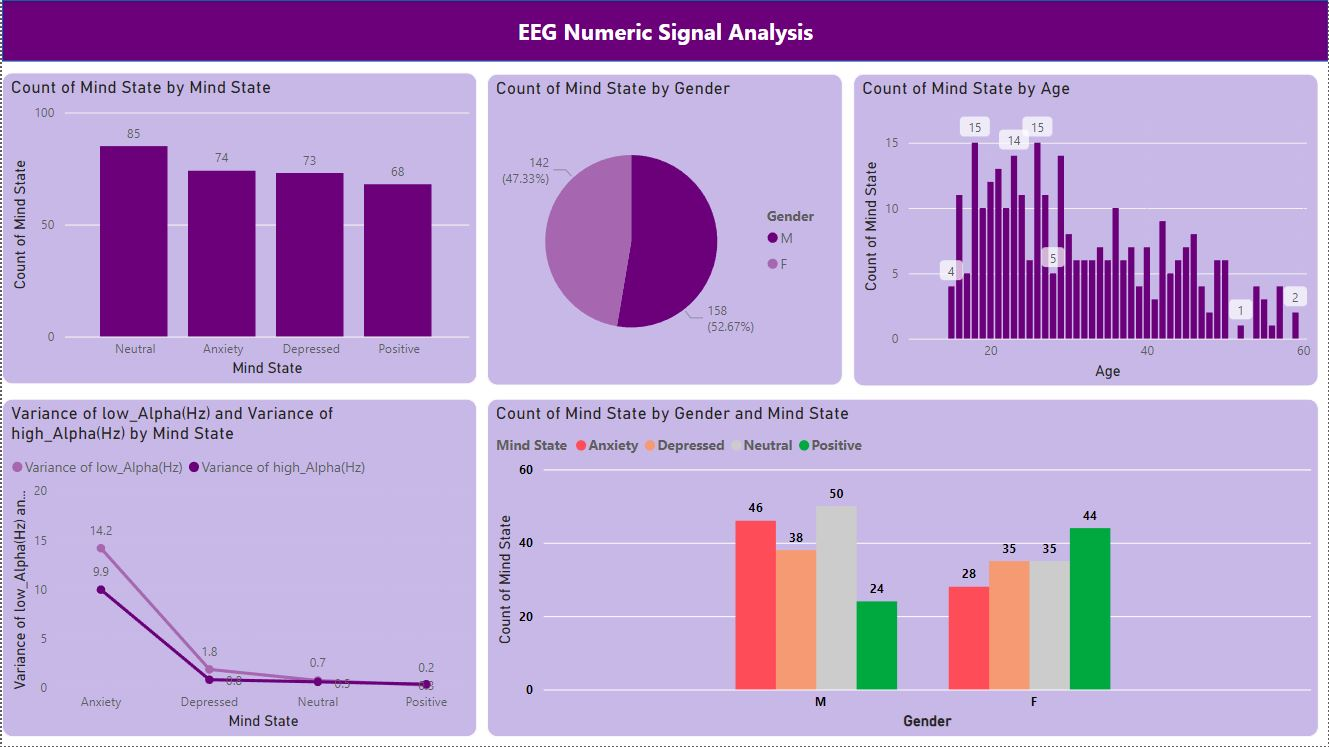

The page's visual inventory and layout, read from the dashboard file:
{"tool":"powerbi","page":{"name":"Page 1","canvas":[1280,720],"ordinal":0},"visuals":[{"type":"columnChart","fields":{"Category":["dataset-eeg.Mind State"],"Y":["CountNonNull(dataset-eeg.Mind State)"]},"box":[0,70,458.3,300.5],"z":0},{"type":"shape","box":[0,0,1280.3,59],"z":1},{"type":"pieChart","fields":{"Y":["CountNonNull(dataset-eeg.Mind State)"],"Category":["dataset-eeg.Gender"]},"box":[467.9,71.4,343.1,300.5],"z":2},{"type":"lineChart","fields":{"Y":["Sum(dataset-eeg.low_Alpha(Hz))","Sum(dataset-eeg.high_Alpha(Hz))"],"Category":["dataset-eeg.Mind State"]},"box":[0,384.2,458.3,326.6],"z":3},{"type":"clusteredColumnChart","fields":{"Category":["dataset-eeg.Gender"],"Series":["dataset-eeg.Mind State"],"Y":["CountNonNull(dataset-eeg.Mind State)"]},"box":[467.9,384.2,802.7,326.6],"z":4},{"type":"lineClusteredColumnComboChart","fields":{"Category":["dataset-eeg.Age"],"Y":["CountNonNull(dataset-eeg.Mind State)"]},"box":[821.6,71.2,449.1,301.2],"z":5}]}

Visuals, with their boxes in screenshot pixels (x1, y1, x2, y2), scaled from the page's 1280x720 canvas onto the 1329x747 screenshot:
columnChart - dataset-eeg.Mind State x CountNonNull(dataset-eeg.Mind State): locate(0, 73, 476, 384)
shape: locate(0, 0, 1328, 61)
pieChart - CountNonNull(dataset-eeg.Mind State) x dataset-eeg.Gender: locate(486, 74, 842, 386)
lineChart - Sum(dataset-eeg.low_Alpha(Hz)) x Sum(dataset-eeg.high_Alpha(Hz)): locate(0, 399, 476, 737)
clusteredColumnChart - dataset-eeg.Gender x dataset-eeg.Mind State: locate(486, 399, 1319, 737)
lineClusteredColumnComboChart - dataset-eeg.Age x CountNonNull(dataset-eeg.Mind State): locate(853, 74, 1319, 386)
